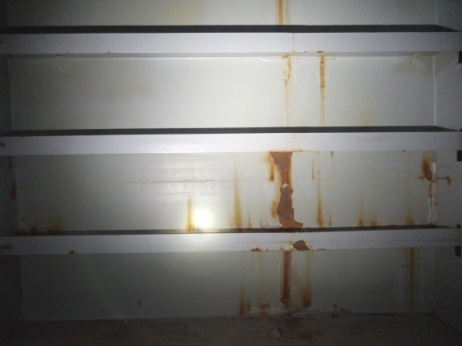corrosion: (270, 144, 305, 226), (389, 240, 421, 309), (264, 247, 298, 307), (276, 53, 298, 125), (313, 57, 332, 126), (221, 179, 244, 226), (174, 200, 201, 228), (233, 287, 258, 314), (297, 275, 318, 307), (272, 0, 292, 31), (317, 182, 328, 228), (349, 213, 382, 226), (417, 157, 441, 174), (295, 234, 308, 260)
